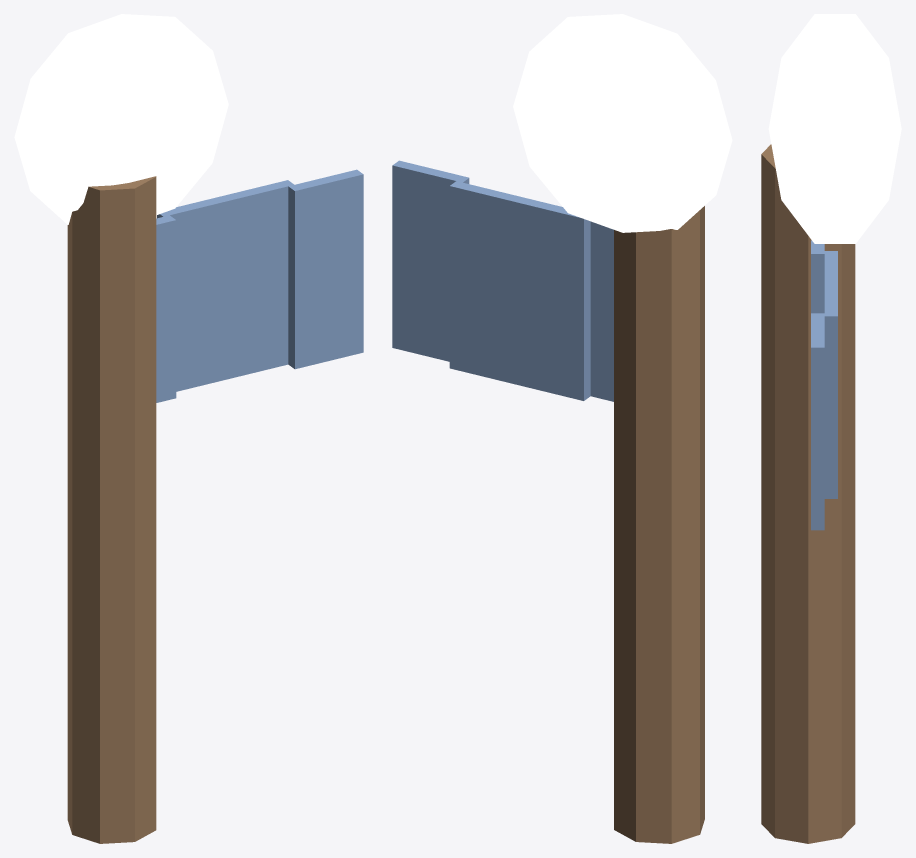
File: Deco_BannerPost_Moon.fbx
The picture shows the model from 3 angles, left to right: view 1: azimuth 30°, elevation 25°; view 2: azimuth 150°, elevation 25°; view 3: azimuth 270°, elevation 25°; orthographic projection. The views are drawn at different scales.
Visible parts, largest first — view 1: Deco_BannerPost_Moon_Post, Deco_BannerPost_Moon, Deco_BannerPost_Moon_Moon; view 2: Deco_BannerPost_Moon_Post, Deco_BannerPost_Moon, Deco_BannerPost_Moon_Moon; view 3: Deco_BannerPost_Moon_Post, Deco_BannerPost_Moon_Moon, Deco_BannerPost_Moon.
Boxes of the visible parts, bbox=[...] form: Deco_BannerPost_Moon_Post: bbox=[67, 176, 156, 843]; Deco_BannerPost_Moon: bbox=[156, 169, 363, 402]; Deco_BannerPost_Moon_Moon: bbox=[14, 14, 228, 224]; Deco_BannerPost_Moon_Post: bbox=[614, 206, 704, 843]; Deco_BannerPost_Moon: bbox=[392, 160, 613, 401]; Deco_BannerPost_Moon_Moon: bbox=[513, 14, 732, 232]; Deco_BannerPost_Moon_Post: bbox=[761, 144, 855, 843]; Deco_BannerPost_Moon_Moon: bbox=[768, 14, 901, 243]; Deco_BannerPost_Moon: bbox=[811, 240, 837, 530].
Size of the model in its own units: 0.2883 by 0.67 by 0.1045.
